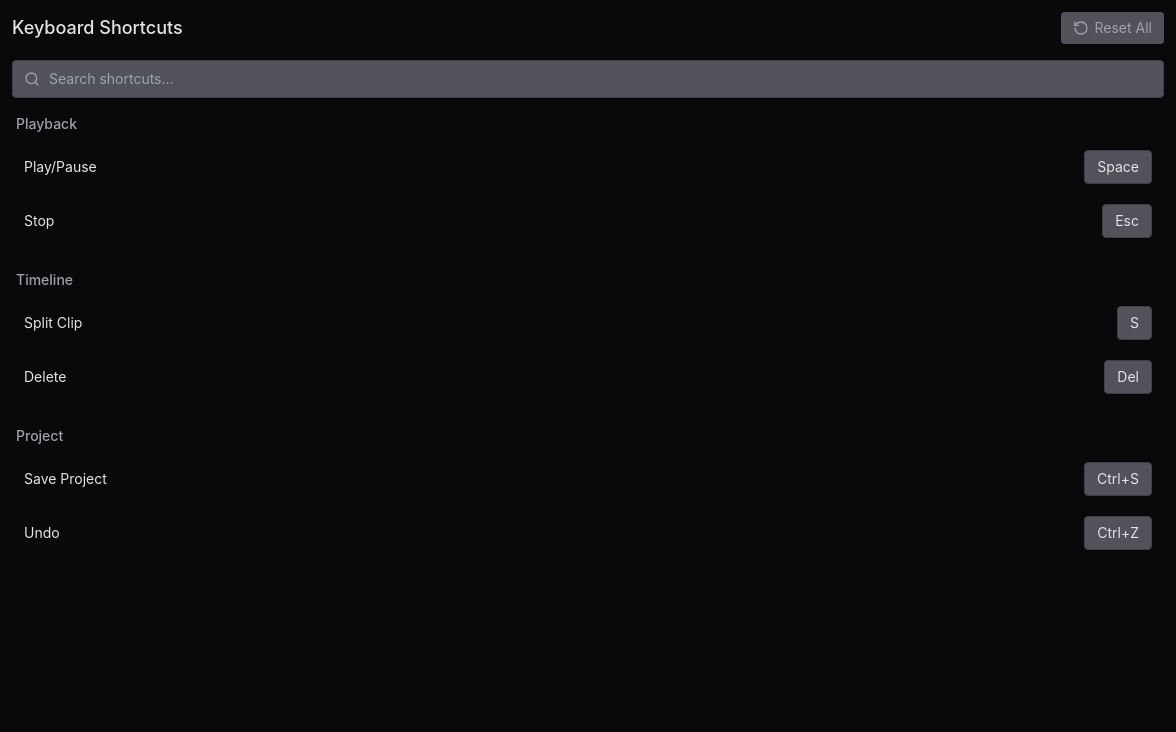
Scenario: ShortcutEditor › search/filter › should filter shortcuts by search query
The image size is (1176, 732).
Type "play" into the field with placeholder "Search shortcuts..." at (588, 79), box [12,60,1164,98]
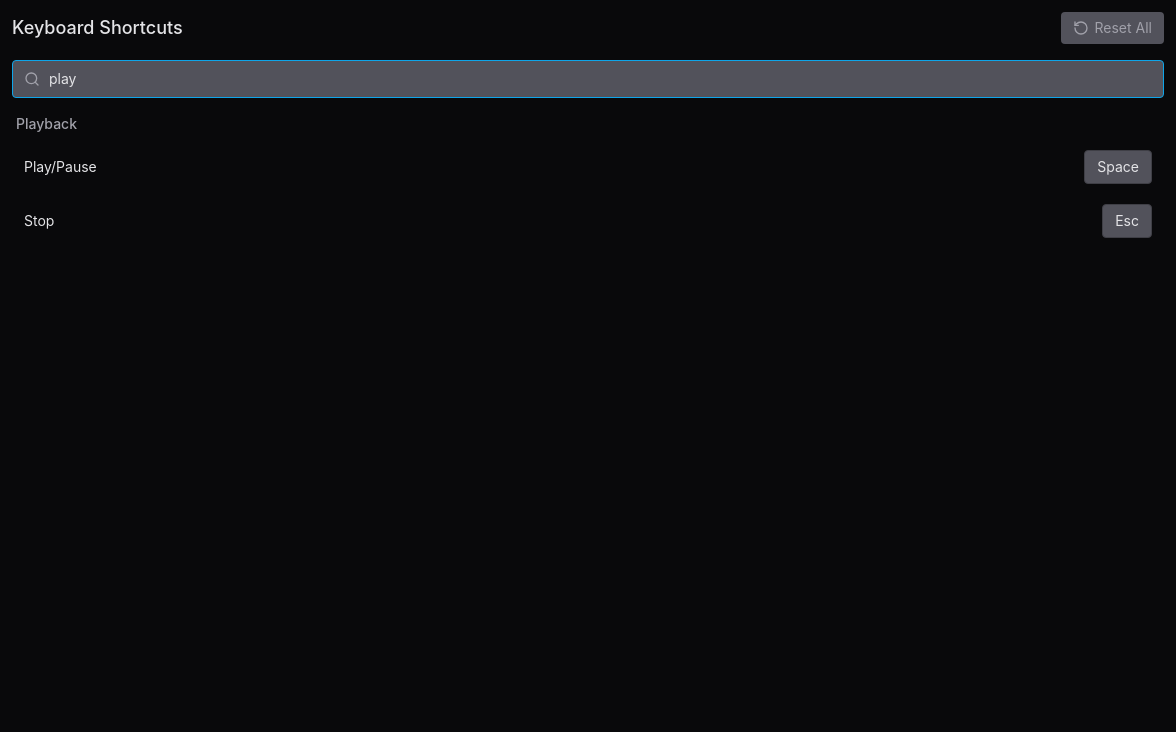
Expected: the text "Play/Pause" is shown, [24,157,97,177]
Expected: the text "Split Clip" is gone
